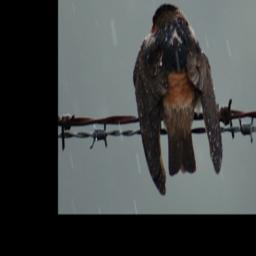Swallow: (133, 3, 224, 197)
